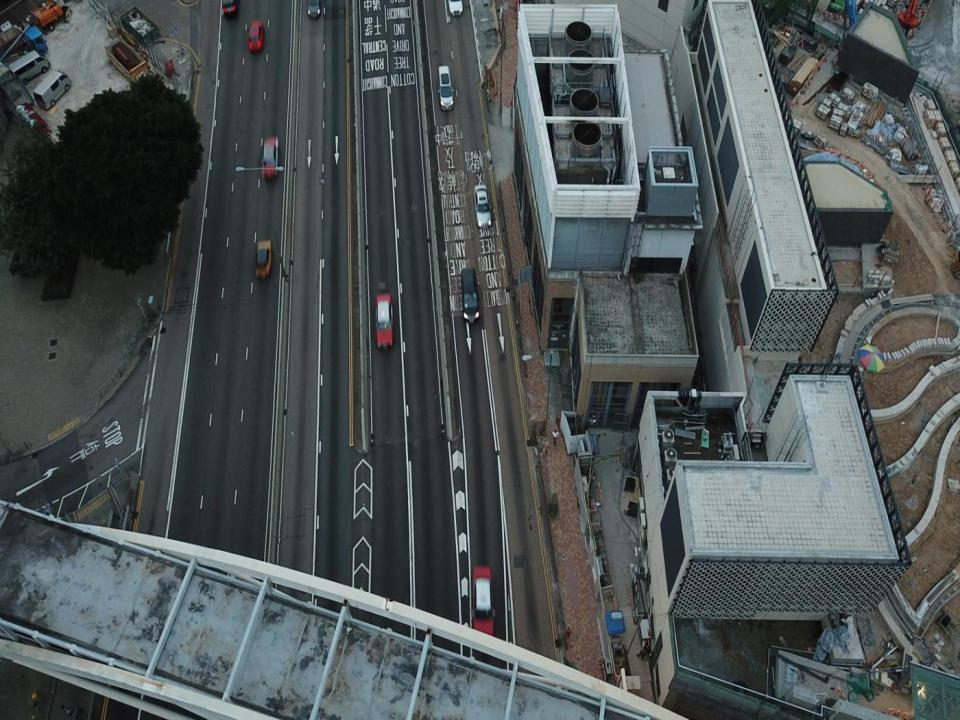car: (472, 566, 493, 638), (374, 291, 394, 350), (475, 184, 493, 228), (260, 135, 278, 177), (255, 240, 274, 278), (249, 18, 264, 53), (220, 0, 237, 19), (306, 0, 322, 18), (448, 0, 464, 16)
truck: (0, 27, 47, 78)
van: (7, 48, 49, 88), (33, 70, 73, 110), (461, 268, 480, 322), (437, 65, 454, 109)
